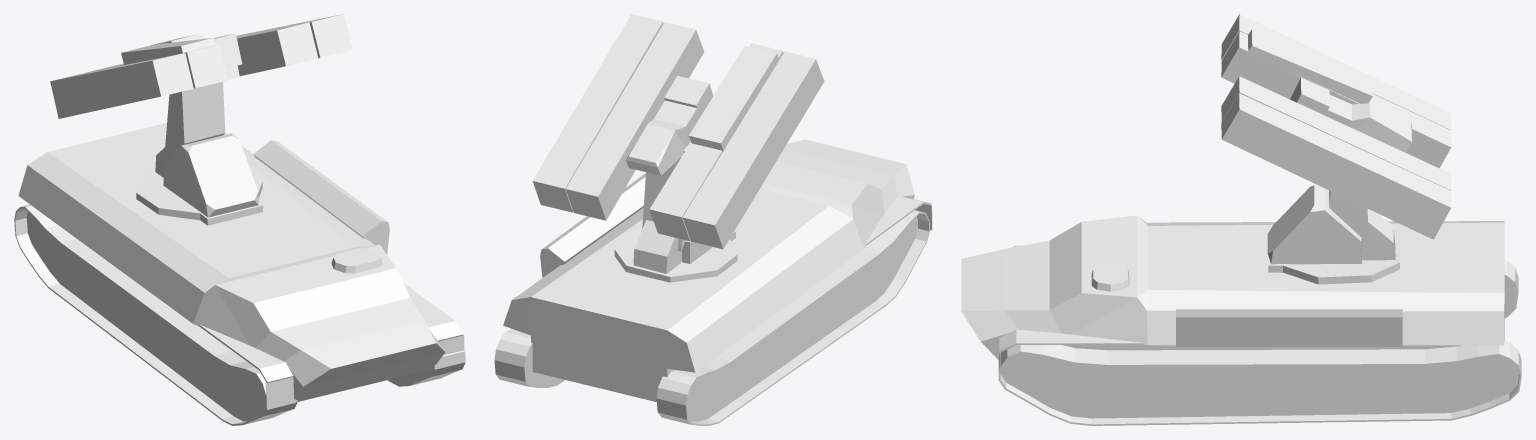
Rendered from BH_Vehicle_9k35_Brake.fbx.
3 renders of one model, left to right at view 1: azimuth 30°, elevation 25°; view 2: azimuth 150°, elevation 25°; view 3: azimuth 270°, elevation 25°, orthographic. The views are drawn at different scales.
Parts seen in each view (by area): view 1: Brake5, Brake13, Brake1, Brake9, Brake3, Brake2, Brake7, Brake6, Brake8, Brake10, Brake12, Brake4 (+1 smaller); view 2: Brake5, Brake13, Brake9, Brake7, Brake6, Brake1, Brake11, Brake10, Brake8, Brake3, Brake12, Brake2; view 3: Brake5, Brake12, Brake6, Brake3, Brake1, Brake8, Brake7, Brake10, Brake11, Brake9, Brake2, Brake4 (+1 smaller).
Part boxes in pixels (bbox=[...]): Brake5: bbox=[18, 123, 464, 409]; Brake13: bbox=[14, 204, 297, 425]; Brake1: bbox=[136, 133, 263, 225]; Brake9: bbox=[50, 53, 193, 118]; Brake3: bbox=[253, 140, 389, 254]; Brake2: bbox=[164, 81, 225, 162]; Brake7: bbox=[236, 22, 318, 76]; Brake6: bbox=[236, 14, 352, 58]; Brake8: bbox=[85, 44, 227, 88]; Brake10: bbox=[121, 38, 215, 64]; Brake12: bbox=[387, 348, 465, 386]; Brake4: bbox=[331, 248, 382, 273]; Brake5: bbox=[503, 139, 932, 401]; Brake13: bbox=[656, 210, 929, 425]; Brake9: bbox=[682, 51, 824, 249]; Brake7: bbox=[566, 22, 704, 220]; Brake6: bbox=[532, 14, 663, 212]; Brake1: bbox=[614, 220, 737, 282]; Brake11: bbox=[626, 75, 713, 175]; Brake10: bbox=[689, 46, 778, 151]; Brake8: bbox=[649, 43, 783, 241]; Brake3: bbox=[540, 173, 645, 277]; Brake12: bbox=[494, 329, 564, 387]; Brake2: bbox=[642, 141, 690, 251]; Brake5: bbox=[961, 215, 1504, 367]; Brake12: bbox=[998, 341, 1521, 425]; Brake6: bbox=[1221, 93, 1451, 239]; Brake3: bbox=[1176, 303, 1402, 346]; Brake1: bbox=[1267, 185, 1399, 284]; Brake8: bbox=[1221, 31, 1451, 168]; Brake7: bbox=[1221, 76, 1451, 190]; Brake10: bbox=[1248, 29, 1372, 103]; Brake11: bbox=[1290, 77, 1412, 152]; Brake9: bbox=[1221, 14, 1451, 130]; Brake2: bbox=[1329, 190, 1371, 246]; Brake4: bbox=[1091, 263, 1129, 291].
Bounding box in the file's own units: 294 × 413 × 662.
